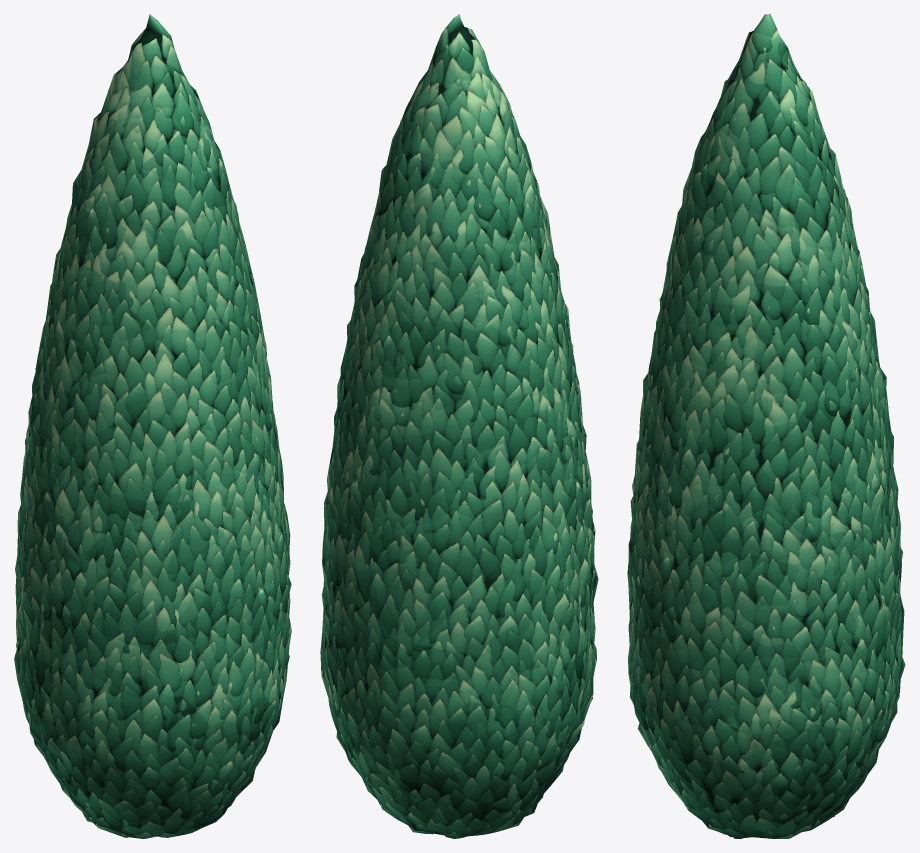
The model's file is cypress.glb.
The picture shows the model from 3 angles, left to right: view 1: azimuth 30°, elevation 25°; view 2: azimuth 150°, elevation 25°; view 3: azimuth 270°, elevation 25°; orthographic projection.
Visible parts, largest first — view 1: cypress; view 2: cypress; view 3: cypress.
Part boxes in pixels (x1,y1,x2,y2): cypress: (14,14,291,838); cypress: (320,14,598,838); cypress: (627,14,905,838).
Bounding box in the file's own units: 2.41 × 7.67 × 2.41.
Materials: 1 (1 with a texture image).
